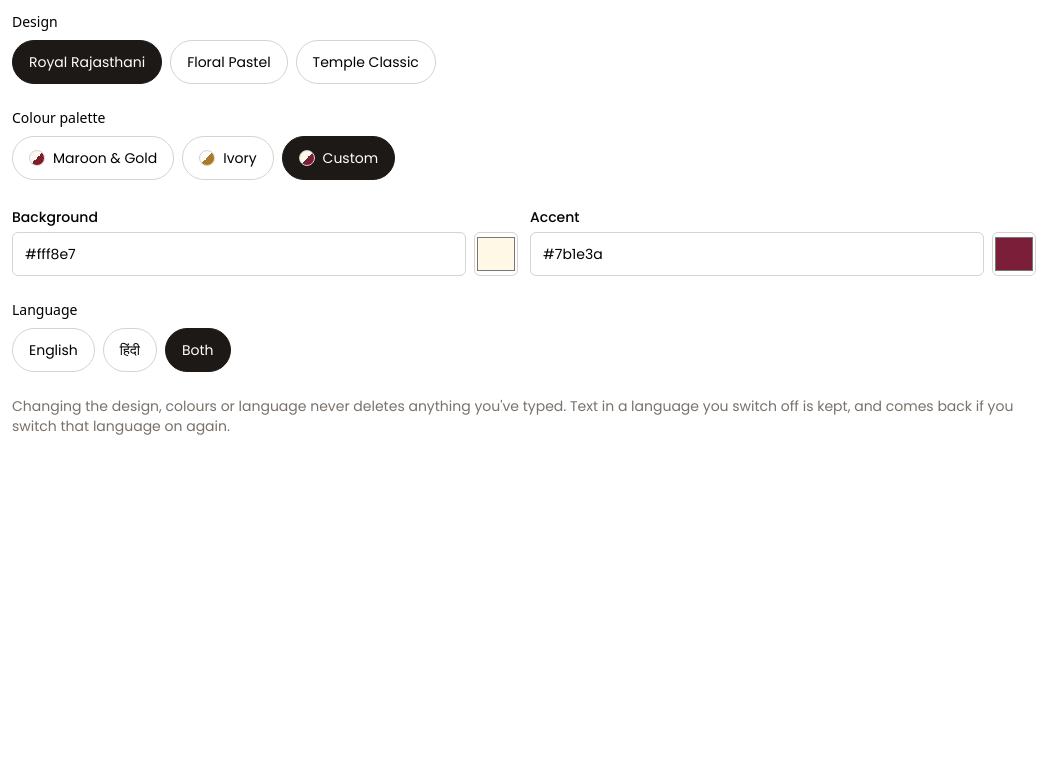
Test: TemplateStep › custom colours › writes a typed colour code, and the picker, to the draft
This screenshot has width=1048, height=780.
Replace the text in the field labelled "Background" with "#0B1D3A" at (239, 254), box top-left (12, 232), bottom-right (466, 276)
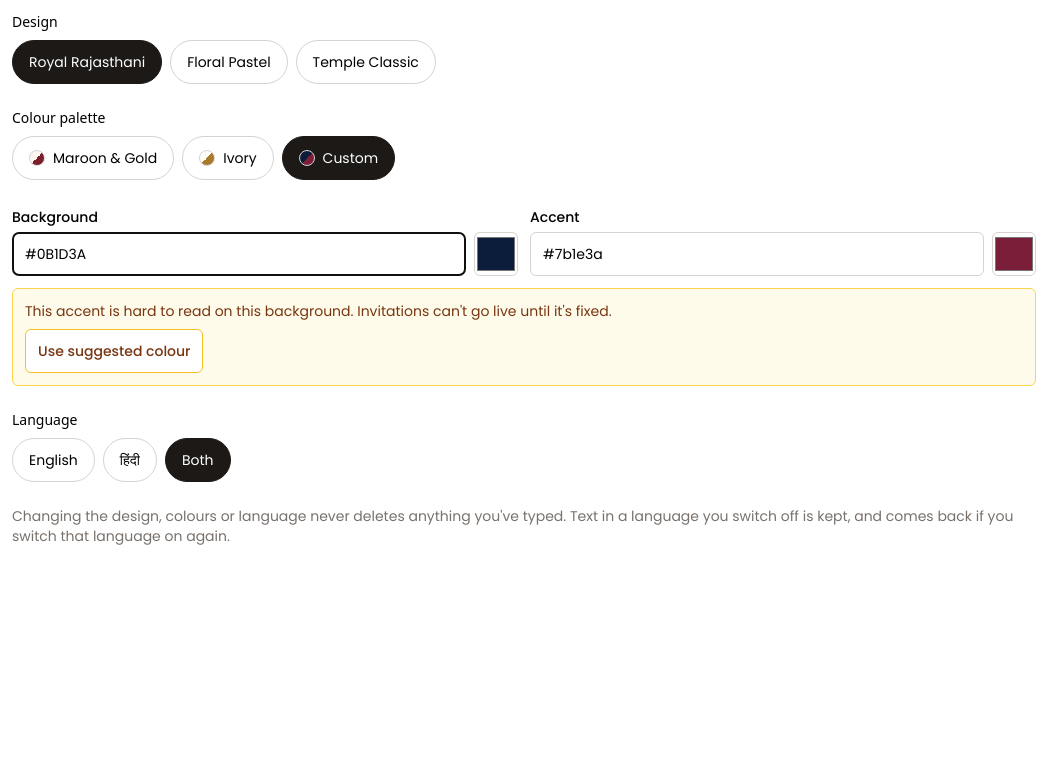
Now the colour field named "Background colour picker" holds "#0b1d3a", box top-left (474, 232), bottom-right (518, 276)
Type "#d4af37" into the colour field named "Accent colour picker".
click(1014, 254); type("#d4af37")  # box top-left (992, 232), bottom-right (1036, 276)
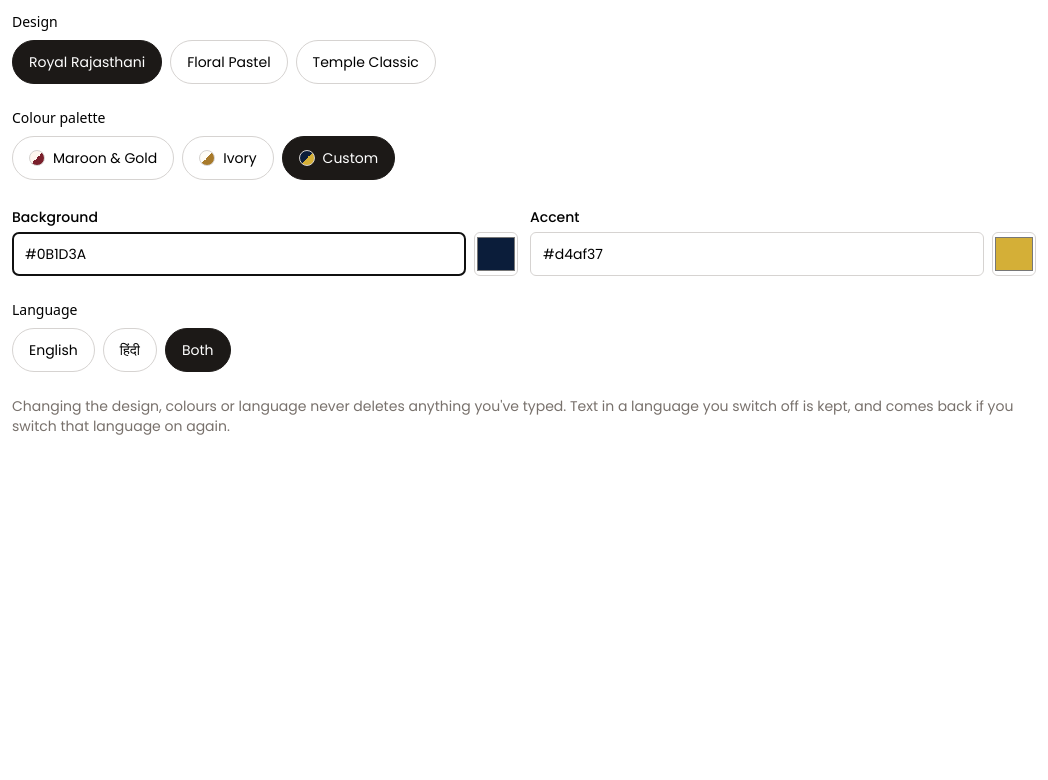
Now the field labelled "Accent" holds "#d4af37", box top-left (530, 232), bottom-right (984, 276)
